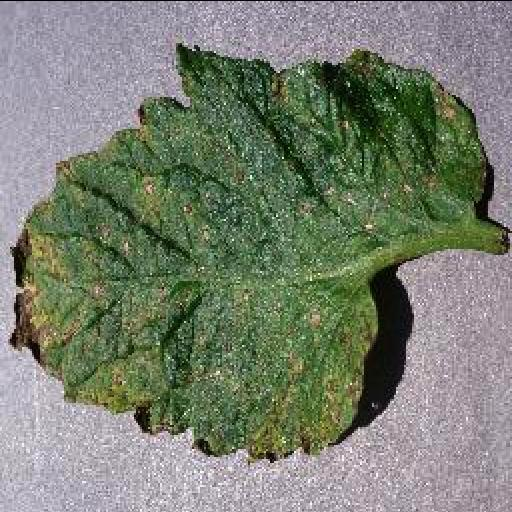disease_tomato: (10, 46, 486, 460)
